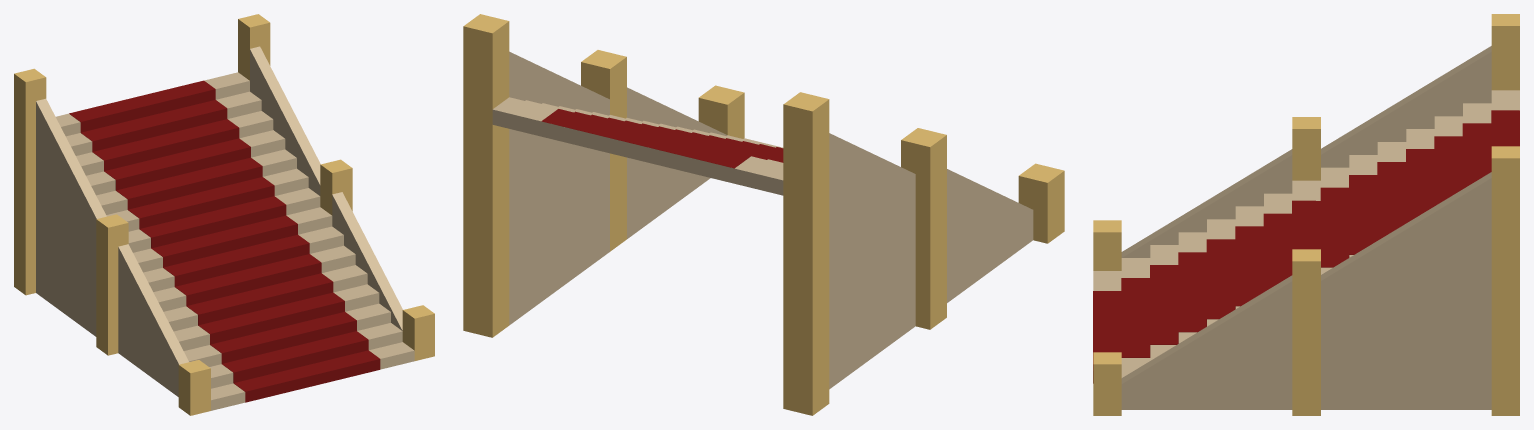
Rendered from Stairs.fbx.
The picture shows the model from 3 angles, left to right: view 1: azimuth 30°, elevation 25°; view 2: azimuth 150°, elevation 25°; view 3: azimuth 270°, elevation 25°; orthographic projection. The views are drawn at different scales.
Parts seen in each view (by area): view 1: Wall with bars.002, Pillar.002, Wall with bars.003; view 2: Pillar.002, Wall with bars.003, Wall with bars.002; view 3: Pillar.002, Wall with bars.002, Wall with bars.003.
Part boxes in pixels (x1,y1,x2,y2): Wall with bars.002: [69, 80, 380, 402]; Pillar.002: [14, 14, 434, 415]; Wall with bars.003: [56, 72, 414, 410]; Pillar.002: [463, 14, 1064, 415]; Wall with bars.003: [492, 97, 783, 195]; Wall with bars.002: [541, 109, 783, 168]; Pillar.002: [1093, 14, 1519, 415]; Wall with bars.002: [1093, 110, 1519, 383]; Wall with bars.003: [1093, 90, 1519, 377].
Bounding box in the file's own units: 240 × 200 × 300.
